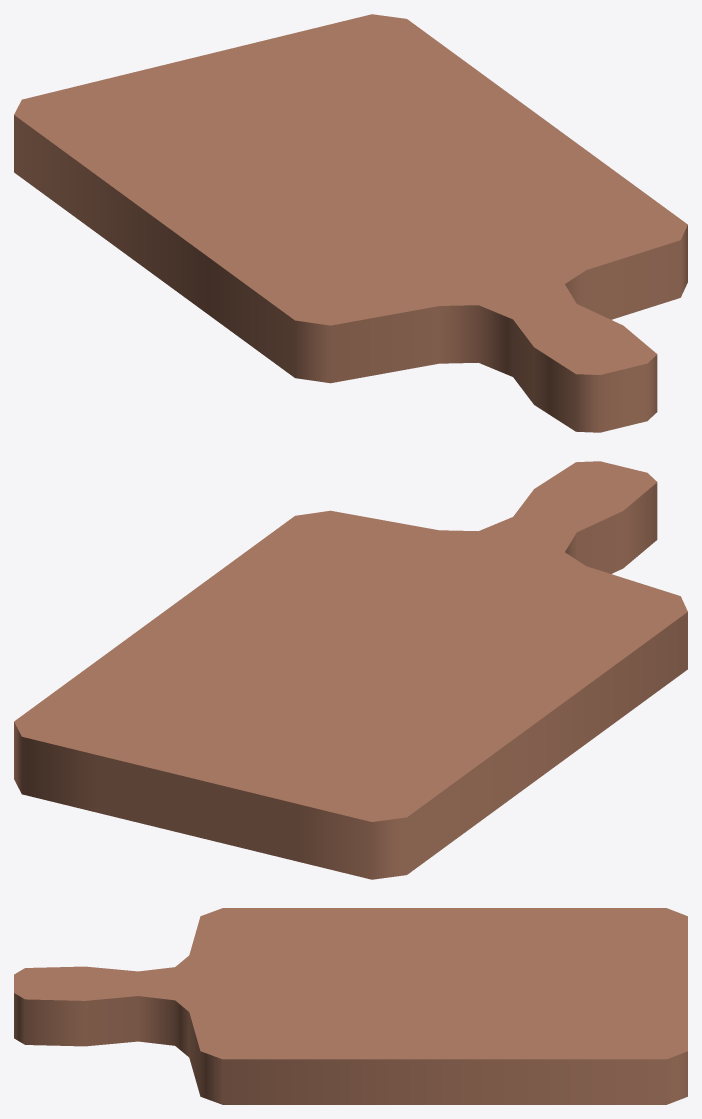
The model's file is CuttingBoard.fbx.
3 renders of one model, top to bottom at view 1: azimuth 30°, elevation 25°; view 2: azimuth 150°, elevation 25°; view 3: azimuth 270°, elevation 25°, orthographic. The views are drawn at different scales.
Parts seen in each view (by area): view 1: CuttingBoard_LP; view 2: CuttingBoard_LP; view 3: CuttingBoard_LP.
Part boxes in pixels (x1=…): CuttingBoard_LP: x1=14, y1=14, x2=687, y2=432; CuttingBoard_LP: x1=14, y1=461, x2=687, y2=879; CuttingBoard_LP: x1=14, y1=908, x2=687, y2=1104.
Size of the model in its own units: 27.12 by 3.8 by 51.02.
